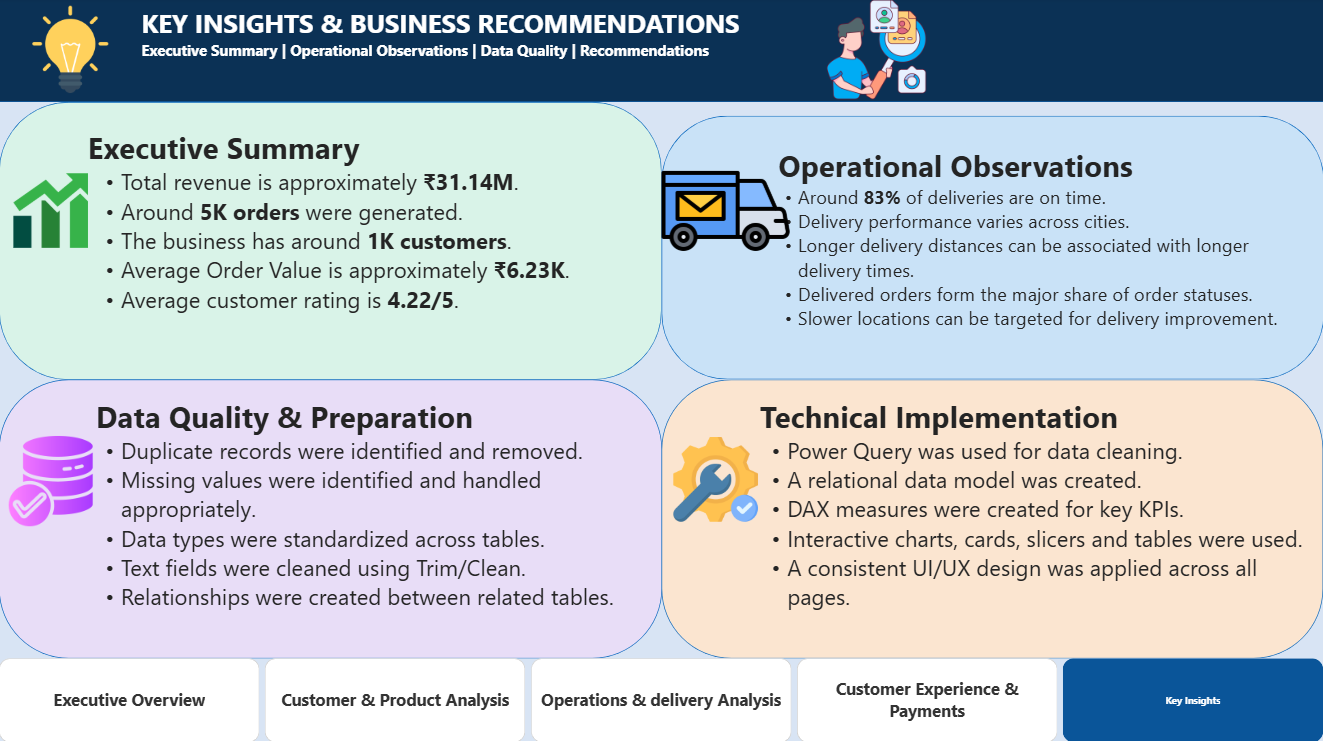

What the dashboard file says about the page in this screenshot:
{"tool":"powerbi","page":{"name":"Key Insights","canvas":[1920,1080],"ordinal":4},"visuals":[{"type":"shape","box":[0,0,1919,152.2],"z":0},{"type":"image","box":[0,12.9,206.3,126.4],"z":1},{"type":"textbox","box":[206.3,12.9,887.3,126.4],"z":2},{"type":"image","box":[1116.8,0,306.9,152.2],"z":3},{"type":"shape","box":[0,152.2,959.5,402.4],"z":4},{"type":"shape","box":[959.5,172.8,959.5,381.7],"z":5},{"type":"shape","box":[0,554,960,404],"z":6},{"type":"shape","box":[960,554,958,404],"z":7},{"type":"textbox","box":[129,152.2,784.1,386.9],"z":8},{"type":"textbox","box":[1116.8,214.1,781.5,294],"z":9},{"type":"image","box":[0,255.3,149.6,108.3],"z":10},{"type":"image","box":[959.5,152.2,185.7,314.7],"z":11},{"type":"textbox","box":[129,577.8,784.1,366.3],"z":12},{"type":"image","box":[0,603.6,149.6,193.4],"z":13},{"type":"textbox","box":[1093.6,577.8,804.7,366.3],"z":14},{"type":"image","box":[959.5,634.5,157.3,126.4],"z":15},{"type":"pageNavigator","box":[0,958,1918,122],"z":16}]}

Visuals, with their boxes in screenshot pixels (x1, y1, x2, y2), scaled from the page's 1920x1080 canvas onto the 1323x741 screenshot:
shape: [x1=0, y1=0, x2=1322, y2=104]
image: [x1=0, y1=9, x2=142, y2=96]
textbox: [x1=142, y1=9, x2=754, y2=96]
image: [x1=770, y1=0, x2=981, y2=104]
shape: [x1=0, y1=104, x2=661, y2=381]
shape: [x1=661, y1=119, x2=1322, y2=380]
shape: [x1=0, y1=380, x2=662, y2=657]
shape: [x1=662, y1=380, x2=1322, y2=657]
textbox: [x1=89, y1=104, x2=629, y2=370]
textbox: [x1=770, y1=147, x2=1308, y2=349]
image: [x1=0, y1=175, x2=103, y2=249]
image: [x1=661, y1=104, x2=789, y2=320]
textbox: [x1=89, y1=396, x2=629, y2=648]
image: [x1=0, y1=414, x2=103, y2=547]
textbox: [x1=754, y1=396, x2=1308, y2=648]
image: [x1=661, y1=435, x2=770, y2=522]
pageNavigator: [x1=0, y1=657, x2=1322, y2=740]
